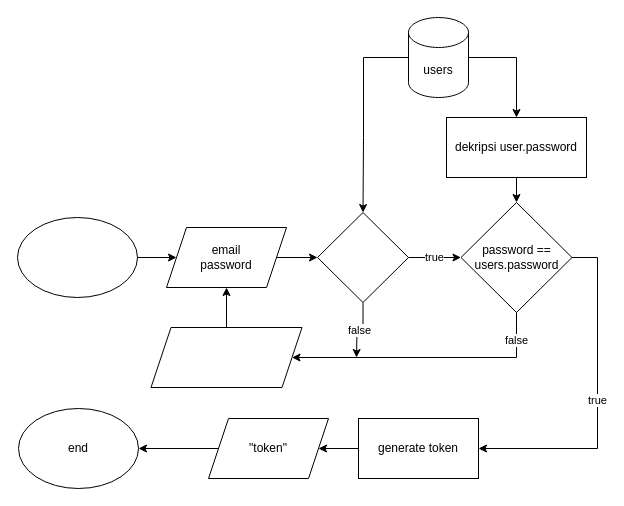
The diagram is 624 pixels wide and 506 high, and some of its shapes have lost their labels. Each missing label, with the box of its shape:
"Email atau Password salah": (150, 326, 302, 388)
email == users.email: (316, 212, 408, 302)
start: (16, 216, 138, 298)
